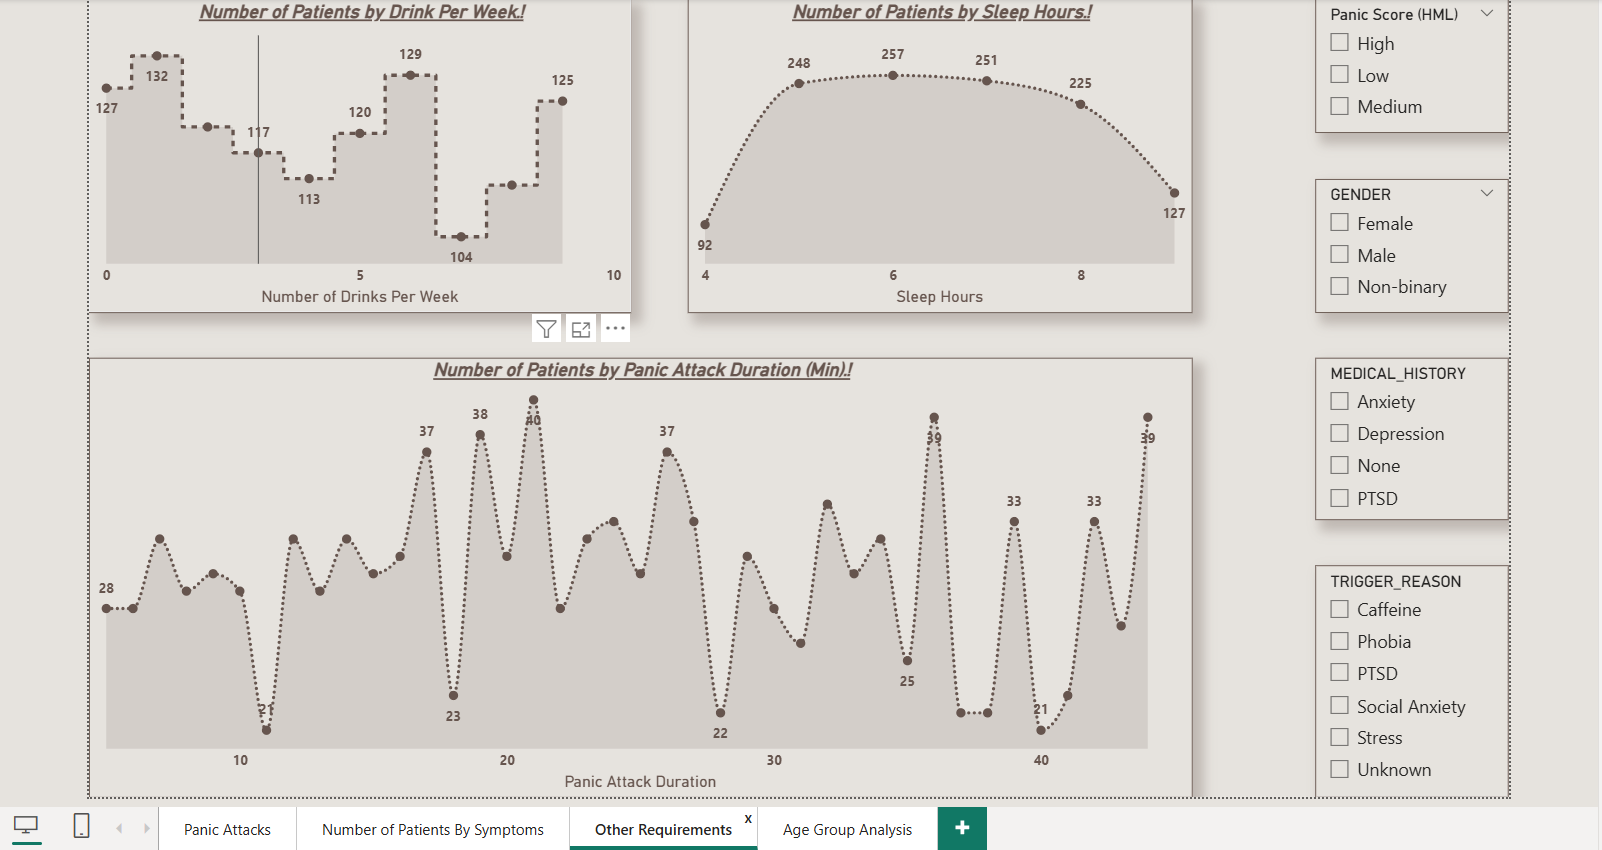

Layout of this report page (visuals, bound fields, positions):
{"tool":"powerbi","page":{"name":"Other Requirements","canvas":[1280,720],"ordinal":2},"visuals":[{"type":"slicer","fields":{"Values":["PANIC_ATTACK_DATA.Panic Score (HML)"]},"box":[1105.7,0,174.7,120.6],"z":0},{"type":"slicer","fields":{"Values":["PANIC_ATTACK_DATA.GENDER"]},"box":[1105.7,162.3,174.7,120.6],"z":1000},{"type":"slicer","fields":{"Values":["PANIC_ATTACK_DATA.TRIGGER_REASON"]},"box":[1105.7,510.6,174.7,209.6],"z":2000},{"type":"slicer","fields":{"Values":["PANIC_ATTACK_DATA.MEDICAL_HISTORY"]},"box":[1105.7,323.5,174.7,146.5],"z":3000},{"type":"areaChart","title":"Number of Patients by Drink Per Week.!","fields":{"Category":["PANIC_ATTACK_DATA.ALCOHOL_CONSUMPTION"],"Y":["CountNonNull(PANIC_ATTACK_DATA.ID)"]},"box":[0,0,489.2,282.9],"z":4000},{"type":"areaChart","title":"Number of Patients by Sleep Hours.!","fields":{"Y":["CountNonNull(PANIC_ATTACK_DATA.ID)"],"Category":["PANIC_ATTACK_DATA.SLEEP_HOURS"]},"box":[539.9,0,455.4,282.9],"z":5000},{"type":"areaChart","title":"Number of Patients by Panic Attack Duration (Min).!","fields":{"Y":["CountNonNull(PANIC_ATTACK_DATA.ID)"],"Category":["PANIC_ATTACK_DATA.DURATION_MINUTES"]},"box":[0,323.5,995.2,396.7],"z":6000}]}

Visuals, with their boxes on the page's 1280x720 design canvas (x1, y1, x2, y2). These are canvas units, not pixel positions in the 1602x850 screenshot, which may show the page scaled, cropped or inside an application window:
slicer - PANIC_ATTACK_DATA.Panic Score (HML): (1106,0,1280,121)
slicer - PANIC_ATTACK_DATA.GENDER: (1106,162,1280,283)
slicer - PANIC_ATTACK_DATA.TRIGGER_REASON: (1106,511,1280,720)
slicer - PANIC_ATTACK_DATA.MEDICAL_HISTORY: (1106,324,1280,470)
"Number of Patients by Drink Per Week.!" areaChart: (0,0,489,283)
"Number of Patients by Sleep Hours.!" areaChart: (540,0,995,283)
"Number of Patients by Panic Attack Duration (Min).!" areaChart: (0,324,995,720)
